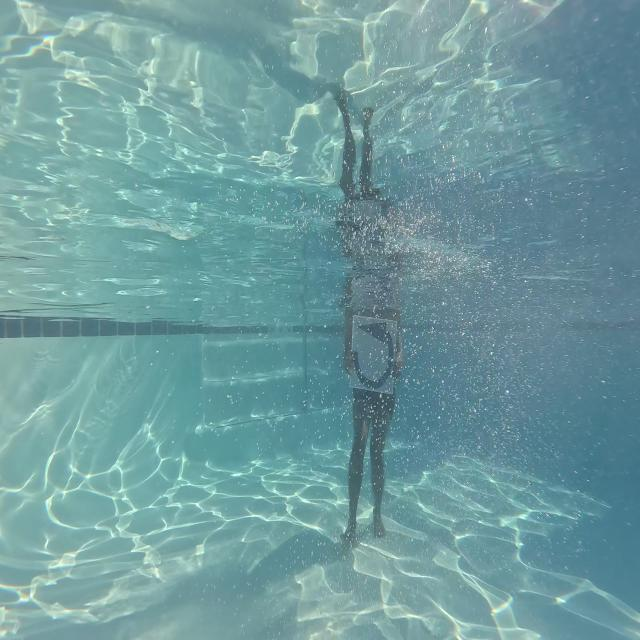blue_side: (348, 308, 397, 396)
